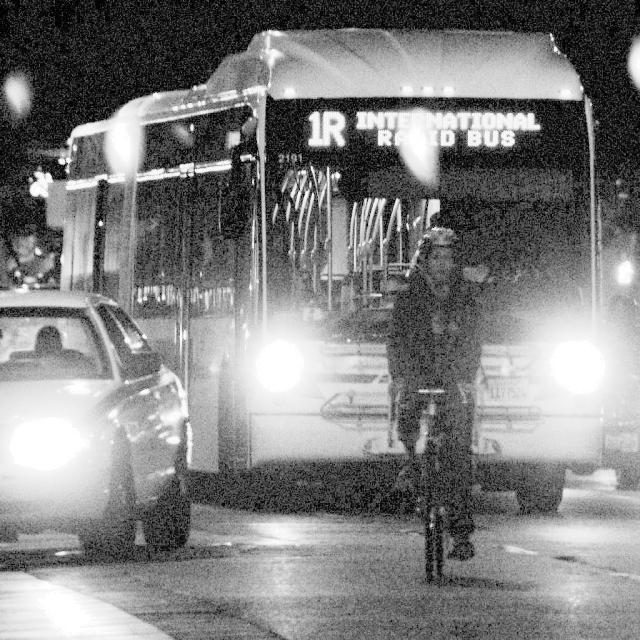Bicycle: (373, 379, 497, 597)
Bus: (62, 86, 640, 508)
Car: (3, 275, 198, 579)
Person: (384, 226, 481, 426)
